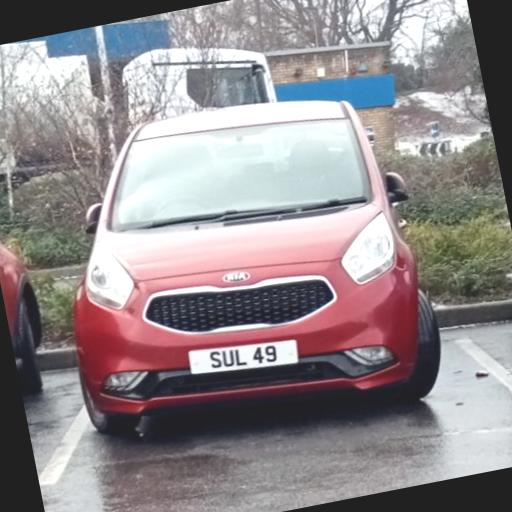numberplates: (190, 341, 298, 375)
